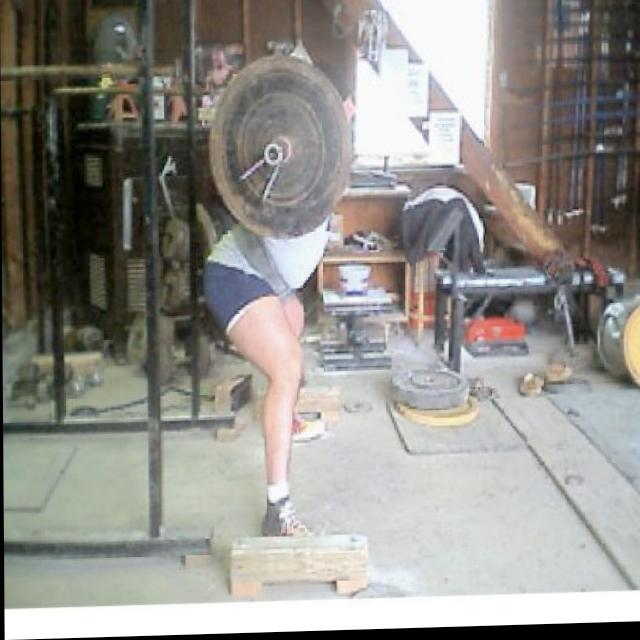barbell: (199, 45, 356, 248)
